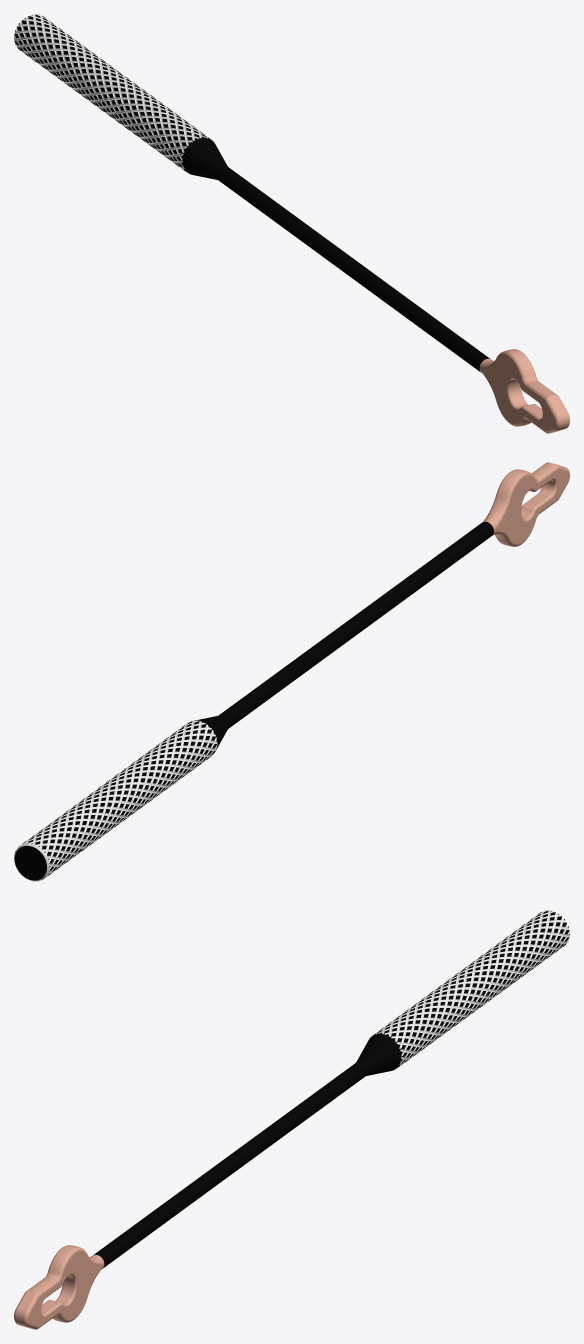
The model's file is coffee_key_version_3.glb.
3 renders of one model, top to bottom at view 1: azimuth 30°, elevation 25°; view 2: azimuth 150°, elevation 25°; view 3: azimuth 330°, elevation 25°, orthographic.
Parts seen in each view (by area): view 1: Node9, Node10, Node4, Node7, Node2, Node1, Node5, Node6, Node3, Node8; view 2: Node9, Node4, Node10, Node7, Node2, Node1, Node3, Node5, Node6, Node8; view 3: Node9, Node10, Node4, Node1, Node2, Node5, Node6, Node3, Node7, Node8.
Boxes of the visible parts, x1,y1,x2,y2 form: Node9: [75, 40, 489, 371]; Node10: [479, 349, 569, 433]; Node4: [14, 14, 214, 179]; Node7: [14, 21, 205, 172]; Node2: [22, 14, 211, 167]; Node1: [14, 14, 205, 152]; Node5: [14, 30, 201, 162]; Node6: [22, 18, 208, 173]; Node3: [30, 50, 184, 169]; Node8: [15, 43, 164, 156]; Node9: [55, 521, 493, 819]; Node4: [14, 721, 227, 880]; Node10: [483, 462, 569, 546]; Node7: [41, 721, 212, 875]; Node2: [22, 723, 217, 879]; Node1: [17, 720, 215, 862]; Node3: [14, 737, 217, 871]; Node5: [42, 720, 198, 866]; Node6: [39, 721, 190, 852]; Node8: [14, 770, 188, 881]; Node9: [94, 936, 569, 1267]; Node10: [14, 1245, 104, 1329]; Node4: [369, 910, 569, 1075]; Node1: [372, 912, 569, 1068]; Node2: [382, 910, 561, 1056]; Node5: [384, 922, 569, 1064]; Node6: [391, 911, 564, 1059]; Node3: [400, 930, 569, 1058]; Node7: [375, 915, 536, 1037]; Node8: [395, 962, 536, 1069].
Size of the model in its own units: 7.87 by 14.99 by 203.
